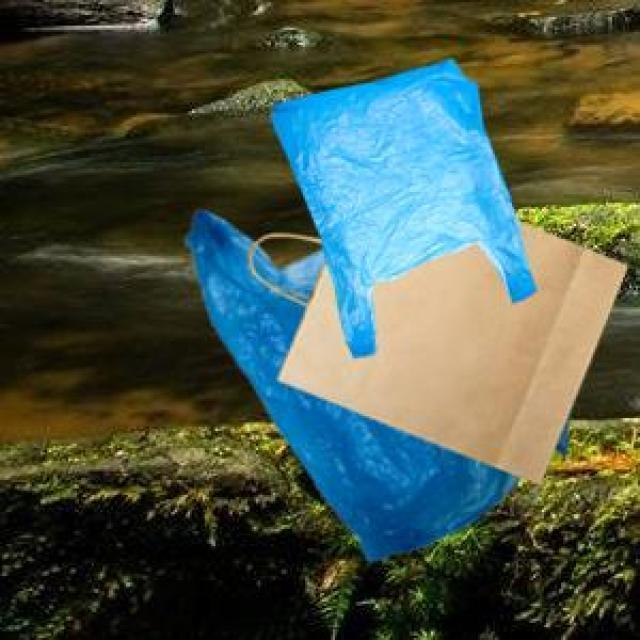paper: (273, 218, 623, 480)
